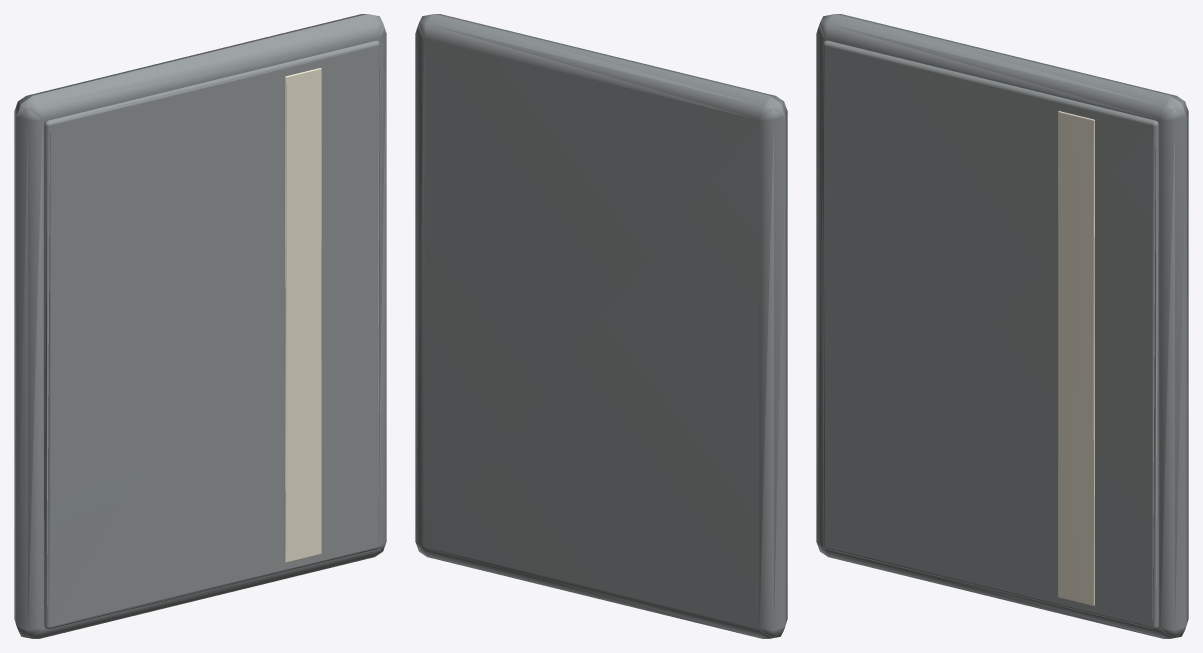
File: 13_starter_mirror.glb
The picture shows the model from 3 angles, left to right: view 1: azimuth 30°, elevation 25°; view 2: azimuth 150°, elevation 25°; view 3: azimuth 330°, elevation 25°; orthographic projection.
Visible parts, largest first — view 1: 13_starter_mirror__Static; view 2: 13_starter_mirror__Static; view 3: 13_starter_mirror__Static.
Part boxes in pixels (x1=…): 13_starter_mirror__Static: x1=14, y1=14, x2=386, y2=638; 13_starter_mirror__Static: x1=415, y1=14, x2=787, y2=638; 13_starter_mirror__Static: x1=816, y1=14, x2=1188, y2=638.
Bounding box in the file's own units: 0.61 × 0.86 × 0.07.
